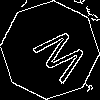W: (25, 25, 91, 91)
